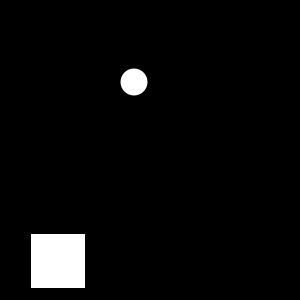circle: (31, 234, 85, 288)
rectangle: (120, 68, 148, 95)
